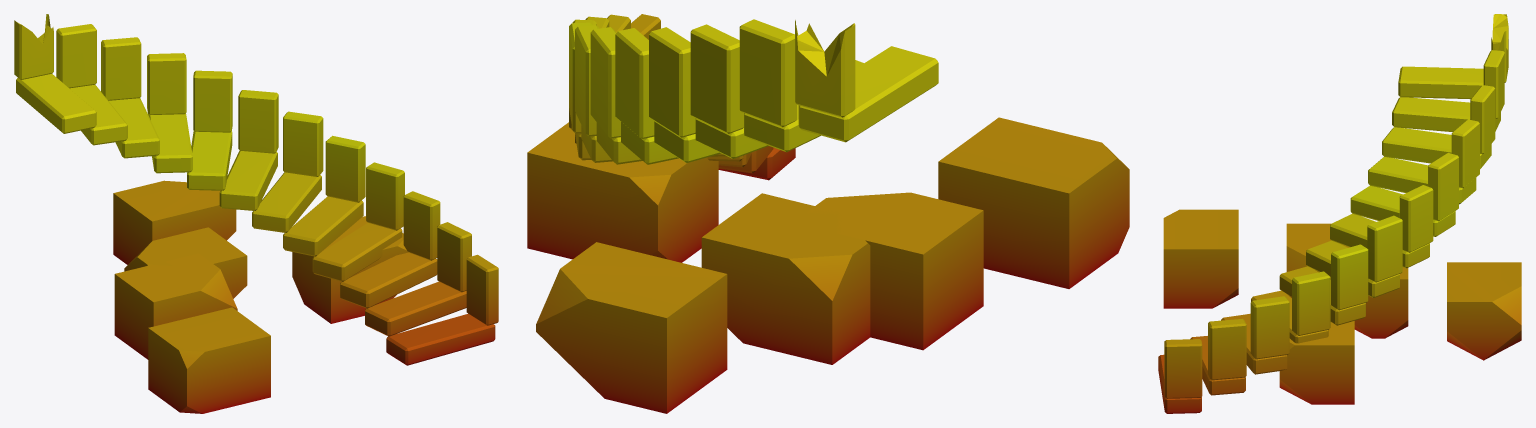
File: tower_stair_broken.glb
3 views of the same model, side by side, from view 1: azimuth 30°, elevation 25°; view 2: azimuth 150°, elevation 25°; view 3: azimuth 270°, elevation 25° (orthographic). The views are drawn at different scales.
Parts seen in each view (by area): view 1: tower_stair_broken; view 2: tower_stair_broken; view 3: tower_stair_broken.
Part boxes in pixels (x1,y1,x2,y2): tower_stair_broken: [14, 14, 498, 413]; tower_stair_broken: [527, 14, 1129, 413]; tower_stair_broken: [1158, 14, 1521, 413].
Size of what is drawn, in the model's own units: 4.69 by 3.8 by 4.87.
